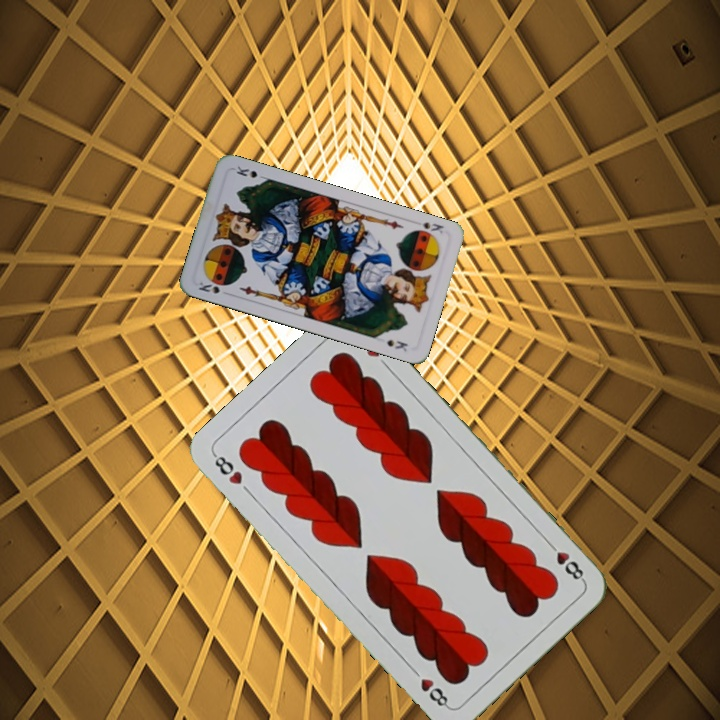H8: (542, 536, 587, 584), (209, 450, 247, 487)
SK: (194, 277, 222, 296), (418, 218, 446, 236)
